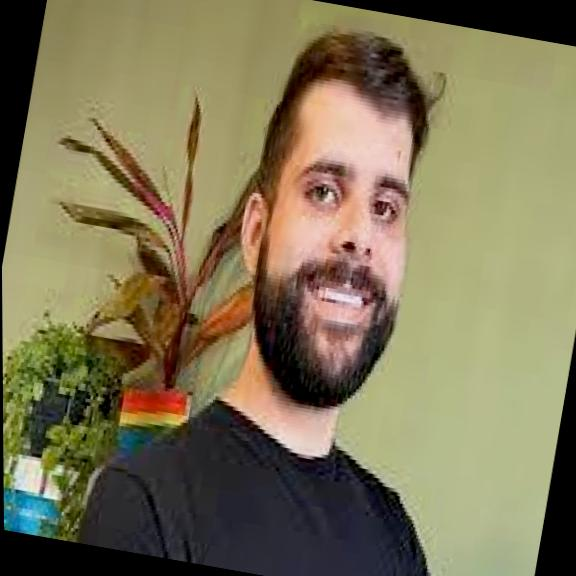no_safety_vest: (69, 368, 487, 576)
